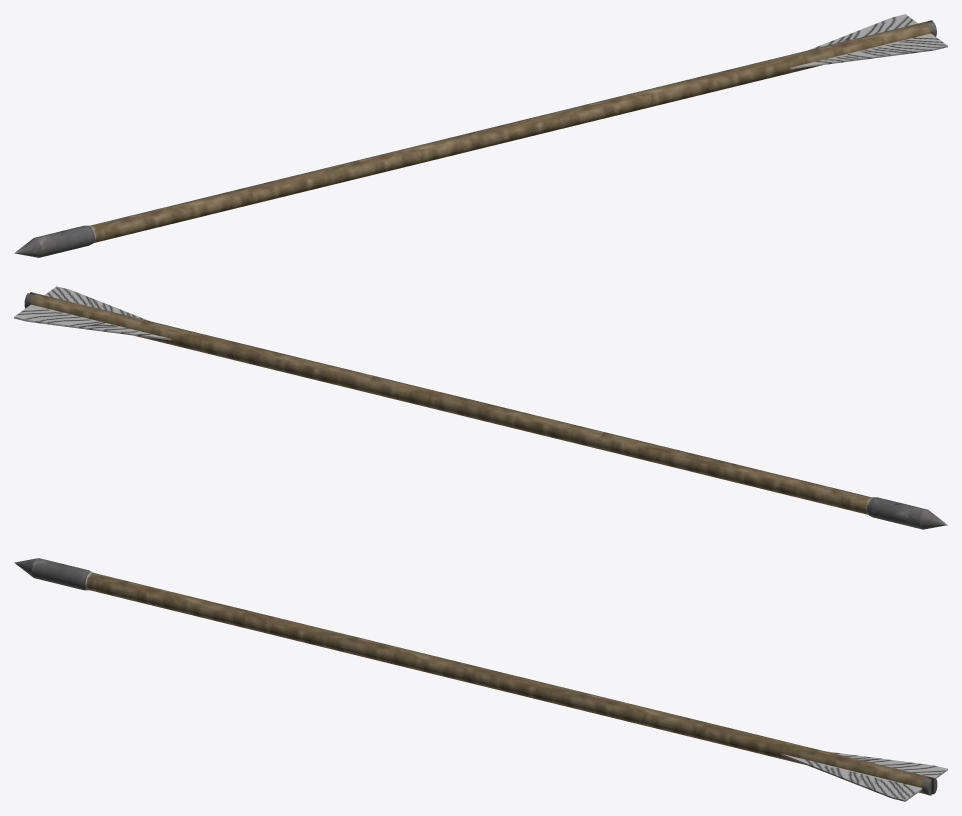
Rendered from Arrow.fbx.
3 views of the same model, one above another, from view 1: azimuth 30°, elevation 25°; view 2: azimuth 150°, elevation 25°; view 3: azimuth 330°, elevation 25° (orthographic).
Visible parts, largest first — view 1: Object_TexMap_0; view 2: Object_TexMap_0; view 3: Object_TexMap_0.
Boxes of the visible parts, x1,y1,x2,y2 form: Object_TexMap_0: [14, 14, 947, 257]; Object_TexMap_0: [14, 286, 947, 529]; Object_TexMap_0: [14, 558, 947, 801].
Size of the model in its own units: 2.5 by 0.0487 by 0.2005.
Materials: 1 (1 with a texture image).
